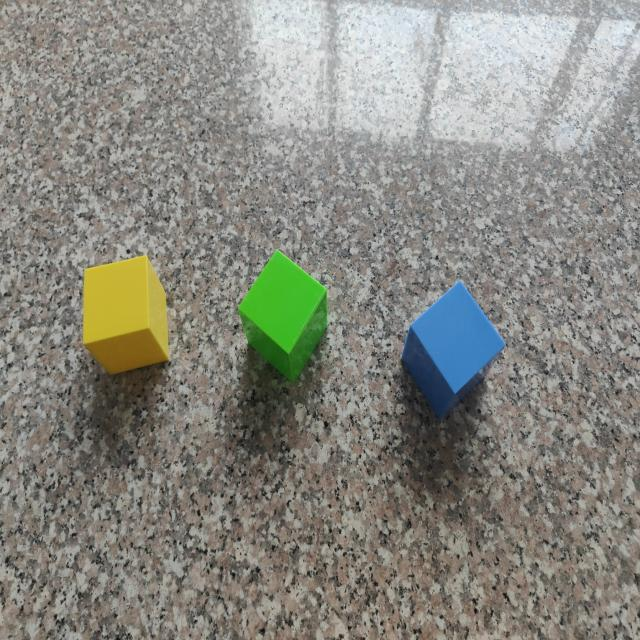blue: (401, 283, 504, 419)
green: (238, 254, 328, 382)
yellow: (82, 256, 170, 376)
